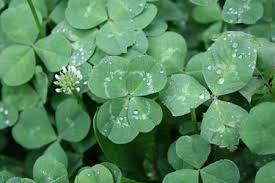4-clover: (91, 56, 168, 145)
